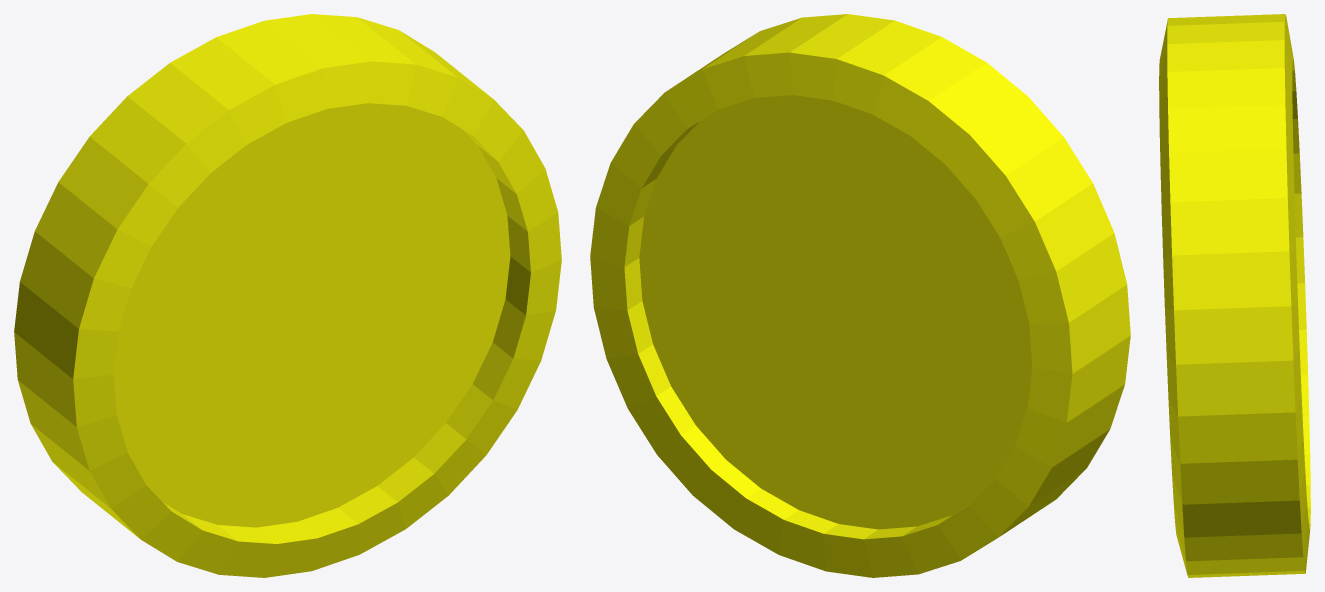
Rendered from coin.fbx.
3 renders of one model, left to right at view 1: azimuth 30°, elevation 25°; view 2: azimuth 150°, elevation 25°; view 3: azimuth 270°, elevation 25°, orthographic.
Parts seen in each view (by area): view 1: Cylinder; view 2: Cylinder; view 3: Cylinder.
Boxes of the visible parts, x1,y1,x2,y2 form: Cylinder: (14, 14, 561, 577); Cylinder: (590, 14, 1130, 577); Cylinder: (1159, 14, 1310, 577).
Size of the model in its own units: 107 by 108 by 29.03.
